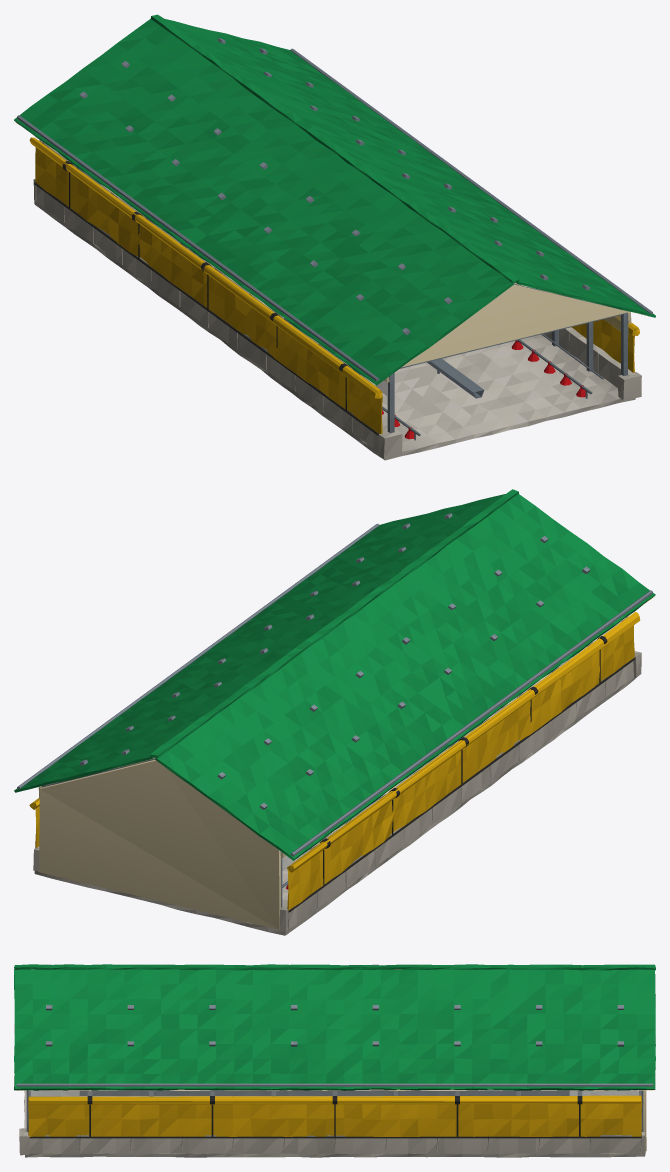
Rendered from galpon_low_poly mejorado.glb.
3 views of the same model, one above another, from view 1: azimuth 30°, elevation 25°; view 2: azimuth 150°, elevation 25°; view 3: azimuth 270°, elevation 25° (orthographic). The views are drawn at different scales.
Parts seen in each view (by area): view 1: techo_izq, techo_der, piso, cortina_izq, fronton, muro_bajo_izq, rollo_cortina, cumbrera, canaleta (×2), muro_bajo_der, cortina_der, barra_cortina (+1 smaller); view 2: techo_izq, muro_trasero, techo_der, cortina_izq, muro_bajo_izq, rollo_cortina, cumbrera, canaleta (×2), piso, barra_cortina; view 3: techo_der, cortina_der, muro_bajo_der, rollo_cortina, malla_der, cumbrera, piso, canaleta, bebedero, barra_cortina, cielo_der.
Part boxes in pixels (left/top/right/bottom): techo_izq: left=14, top=19, right=513, bottom=385; techo_der: left=165, top=19, right=655, bottom=317; piso: left=34, top=185, right=635, bottom=460; cortina_izq: left=35, top=147, right=382, bottom=433; fronton: left=402, top=284, right=629, bottom=367; muro_bajo_izq: left=33, top=179, right=388, bottom=452; rollo_cortina: left=29, top=137, right=382, bottom=398; cumbrera: left=150, top=14, right=519, bottom=283; canaleta (×2): left=17, top=48, right=652, bottom=381; muro_bajo_der: left=544, top=327, right=635, bottom=387; cortina_der: left=571, top=318, right=634, bottom=372; barra_cortina: left=34, top=182, right=378, bottom=435; techo_izq: left=155, top=494, right=655, bottom=860; muro_trasero: left=39, top=759, right=280, bottom=929; techo_der: left=14, top=494, right=505, bottom=792; cortina_izq: left=287, top=625, right=634, bottom=910; muro_bajo_izq: left=279, top=653, right=635, bottom=930; rollo_cortina: left=287, top=612, right=640, bottom=872; cumbrera: left=150, top=489, right=518, bottom=758; canaleta (×2): left=17, top=523, right=652, bottom=856; piso: left=34, top=659, right=635, bottom=935; barra_cortina: left=288, top=658, right=634, bottom=912; techo_der: left=14, top=969, right=655, bottom=1090; cortina_der: left=28, top=1101, right=641, bottom=1136; muro_bajo_der: left=24, top=1132, right=645, bottom=1154; rollo_cortina: left=28, top=1095, right=641, bottom=1104; malla_der: left=28, top=1090, right=641, bottom=1096; cumbrera: left=14, top=964, right=655, bottom=970; piso: left=24, top=1090, right=645, bottom=1157; canaleta: left=16, top=1083, right=653, bottom=1086; bebedero: left=80, top=1090, right=569, bottom=1095; barra_cortina: left=29, top=1136, right=641, bottom=1138; cielo_der: left=16, top=1089, right=653, bottom=1090.
Size of the model in its own units: 14.12 by 7.44 by 31.45.
